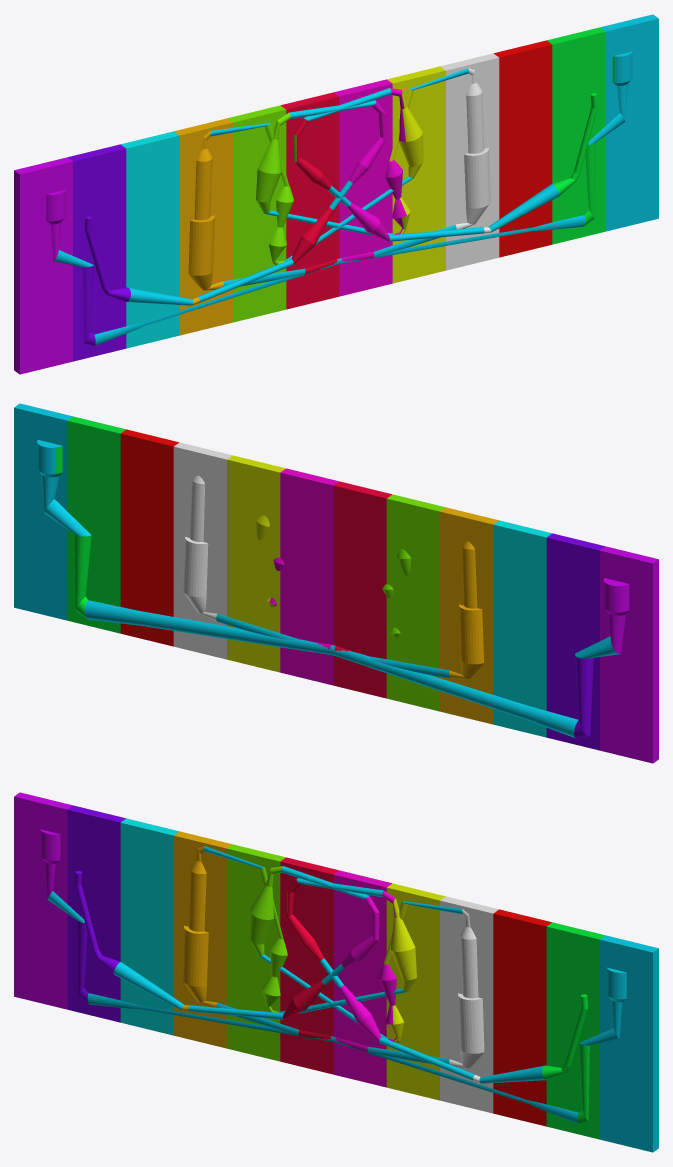
File: drenaje2.fbx
3 renders of one model, top to bottom at view 1: azimuth 30°, elevation 25°; view 2: azimuth 150°, elevation 25°; view 3: azimuth 330°, elevation 25°, orthographic.
Parts seen in each view (by area): view 1: Cylinder; view 2: Cylinder; view 3: Cylinder.
Part boxes in pixels (x1,y1,x2,y2): Cylinder: (14,14,658,374); Cylinder: (14,403,658,763); Cylinder: (14,792,658,1152).
Size of the model in its own units: 0.328 by 6.69 by 2.
